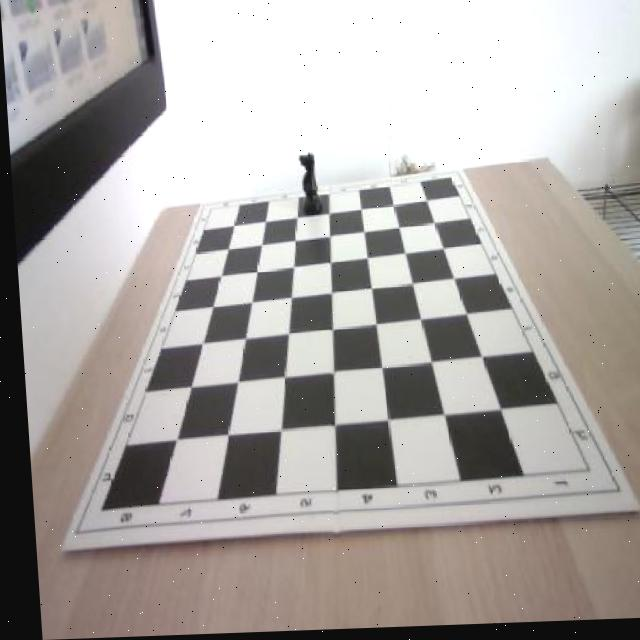black-king: (293, 151, 321, 216)
